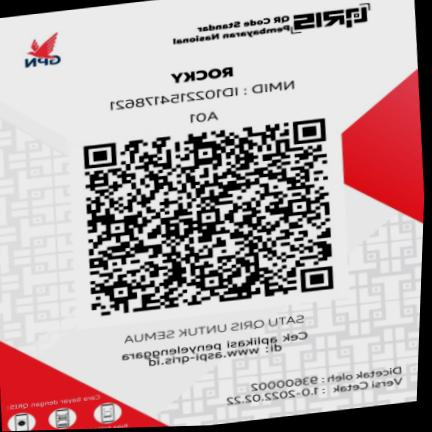Qris-Positioning: (0, 0, 424, 431)
